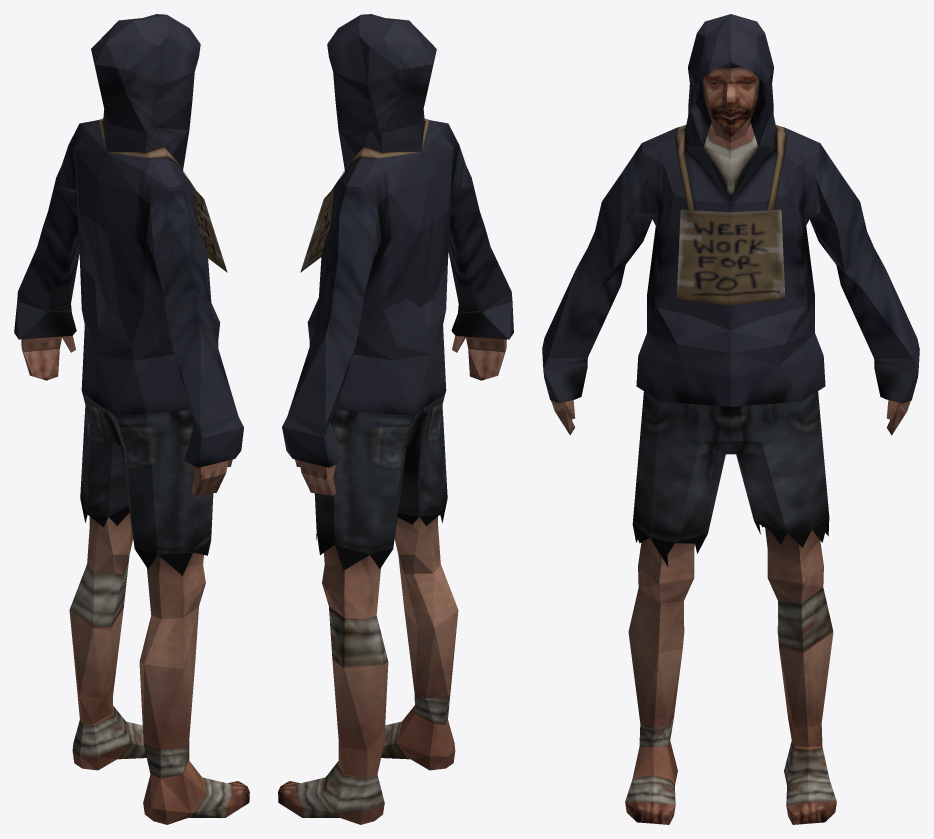
The model's file is swmotr5.obj.
3 renders of one model, left to right at view 1: azimuth 30°, elevation 25°; view 2: azimuth 150°, elevation 25°; view 3: azimuth 270°, elevation 25°, orthographic.
Parts seen in each view (by area): view 1: _Pelvis; view 2: _Pelvis; view 3: _Pelvis.
Part boxes in pixels (<box>): _Pelvis: <box>14,14,249,824</box>; _Pelvis: <box>278,14,513,824</box>; _Pelvis: <box>542,14,919,824</box>.
Size of the model in its own units: 0.2668 by 1.68 by 0.7368.
1 material, 1 textured.
